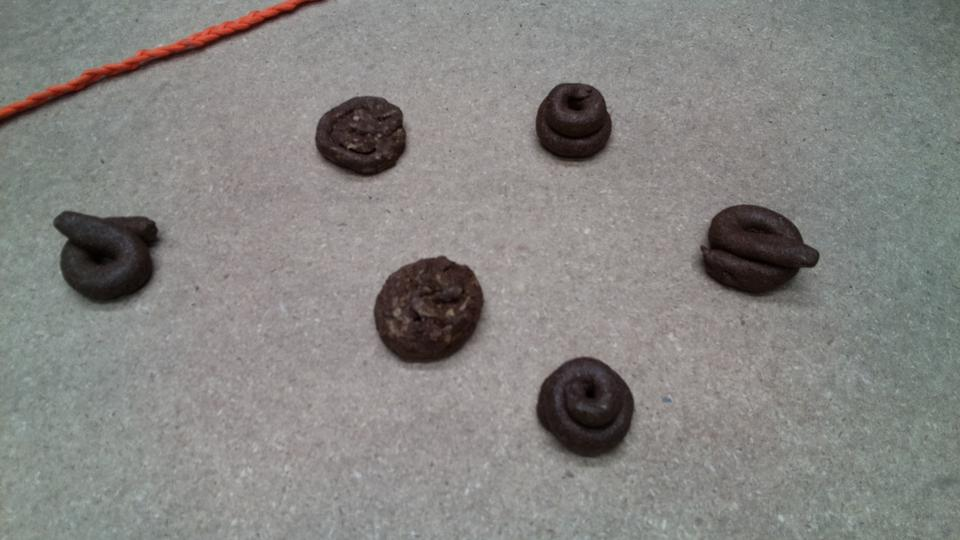poop: (371, 251, 487, 368), (698, 200, 823, 298), (50, 206, 168, 306), (533, 353, 640, 461), (312, 93, 411, 183), (533, 79, 615, 164)
rope: (1, 1, 295, 113)
